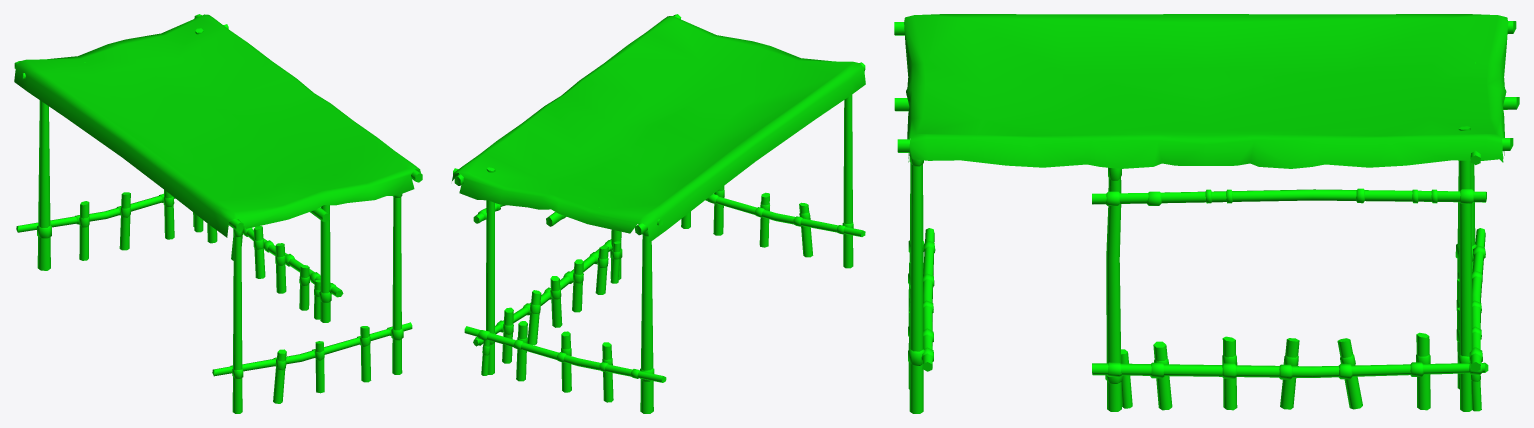
The model's file is pj_玉门布棚001_hd.glb.
The picture shows the model from 3 angles, left to right: view 1: azimuth 30°, elevation 25°; view 2: azimuth 150°, elevation 25°; view 3: azimuth 270°, elevation 25°; orthographic projection. The views are drawn at different scales.
Bounding box in the file's own units: 388 × 363 × 716.
